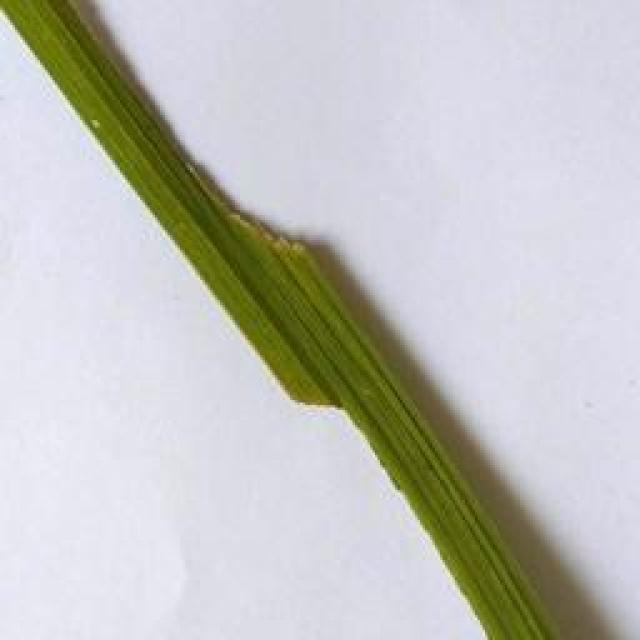Healthy-Plant: (0, 0, 170, 190), (226, 257, 354, 382)
